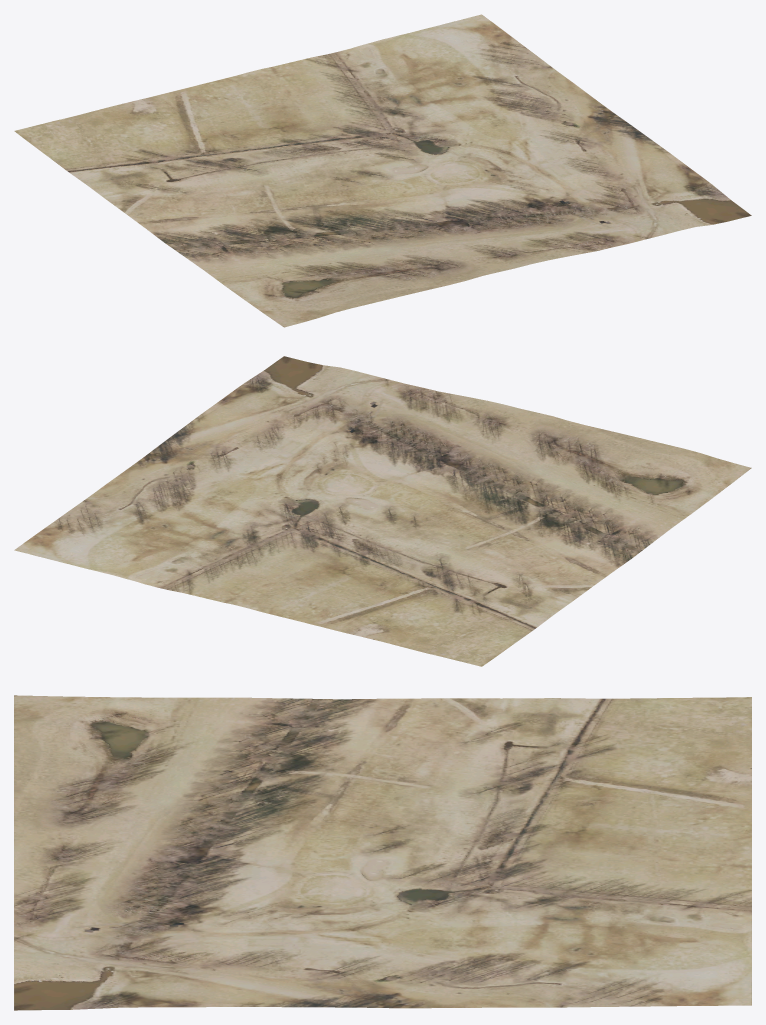
File: CM_Terrain_24491687_6818975.fbx
The picture shows the model from 3 angles, top to bottom: view 1: azimuth 30°, elevation 25°; view 2: azimuth 150°, elevation 25°; view 3: azimuth 270°, elevation 25°; orthographic projection. The views are drawn at different scales.
Parts seen in each view (by area): view 1: CM_Terrain_24491687_6818975_LOD0; view 2: CM_Terrain_24491687_6818975_LOD0; view 3: CM_Terrain_24491687_6818975_LOD0.
Boxes of the visible parts, <box> form: CM_Terrain_24491687_6818975_LOD0: <box>14,14,751,327</box>; CM_Terrain_24491687_6818975_LOD0: <box>14,356,751,666</box>; CM_Terrain_24491687_6818975_LOD0: <box>14,695,751,1010</box>.
Size of what is drawn, in the model's own units: 205 by 3.01 by 205.
